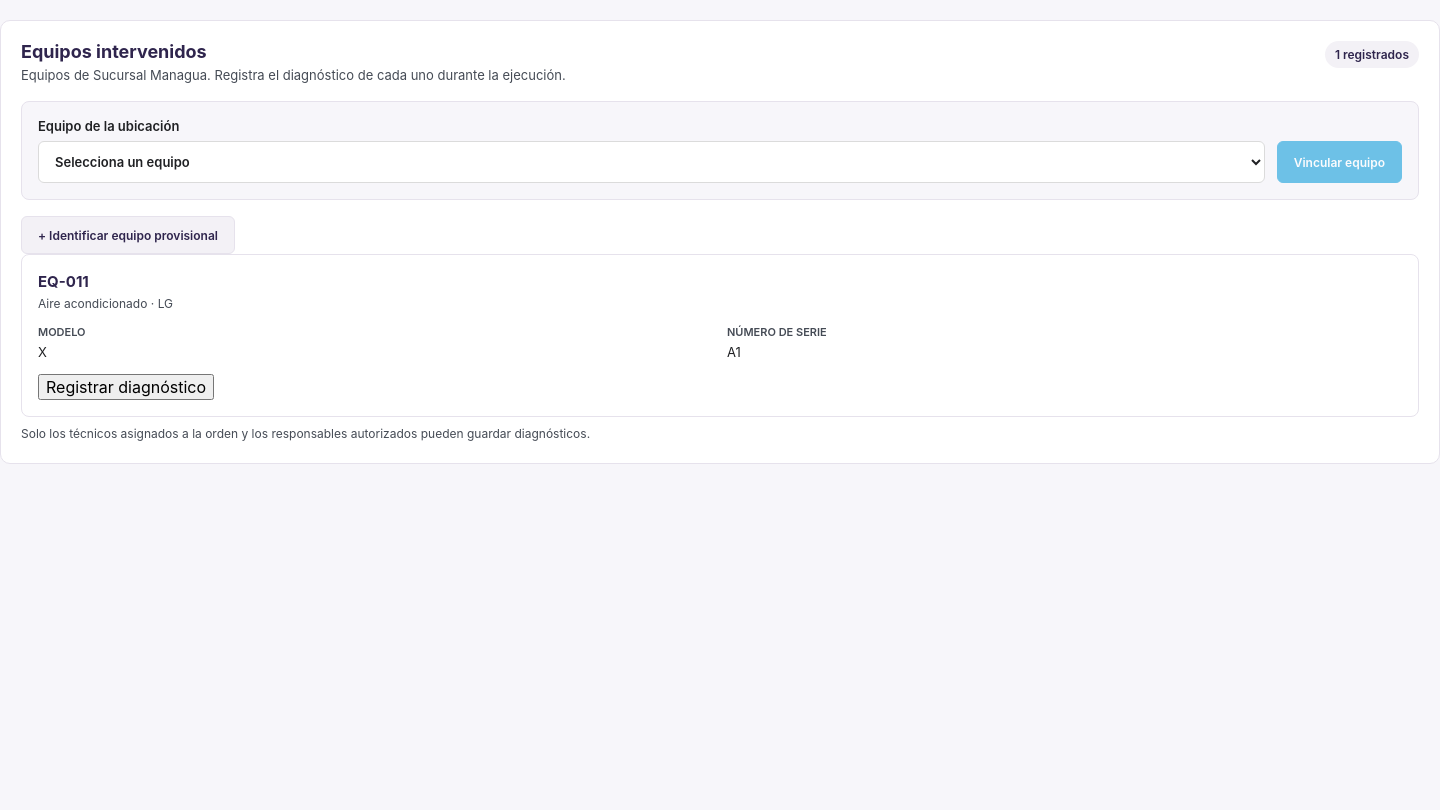
Test: Equipos de orden según Figma › permite abrir formulario de diagnóstico en ejecución
The image size is (1440, 810).
Expected: the text "EQ-011" is shown, [38, 272, 89, 291]
Click the button "Registrar diagnóstico" at x=126, y=387, box [38, 374, 214, 400]
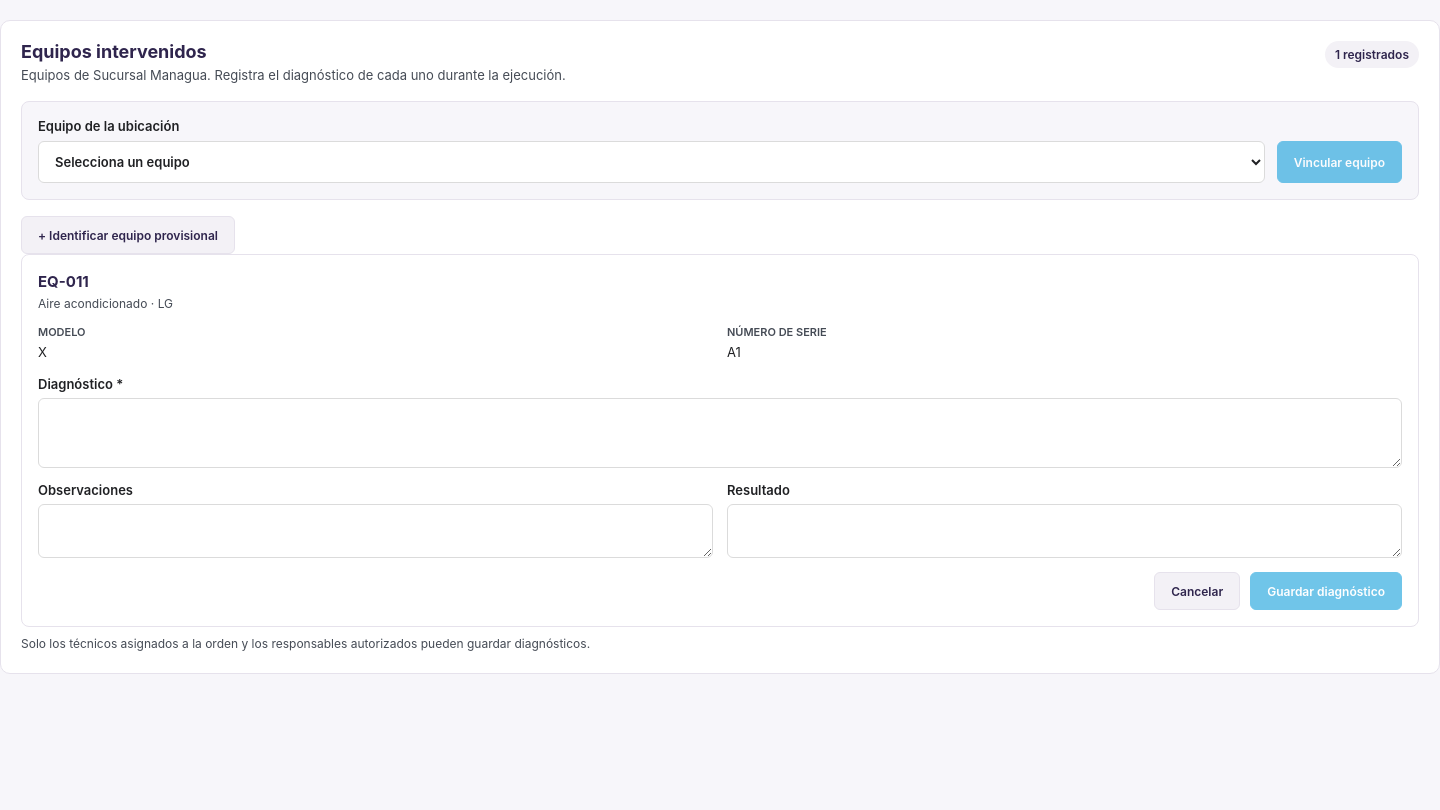
Expected: the text box labelled "Diagnóstico" is shown, [38, 398, 1402, 468]
